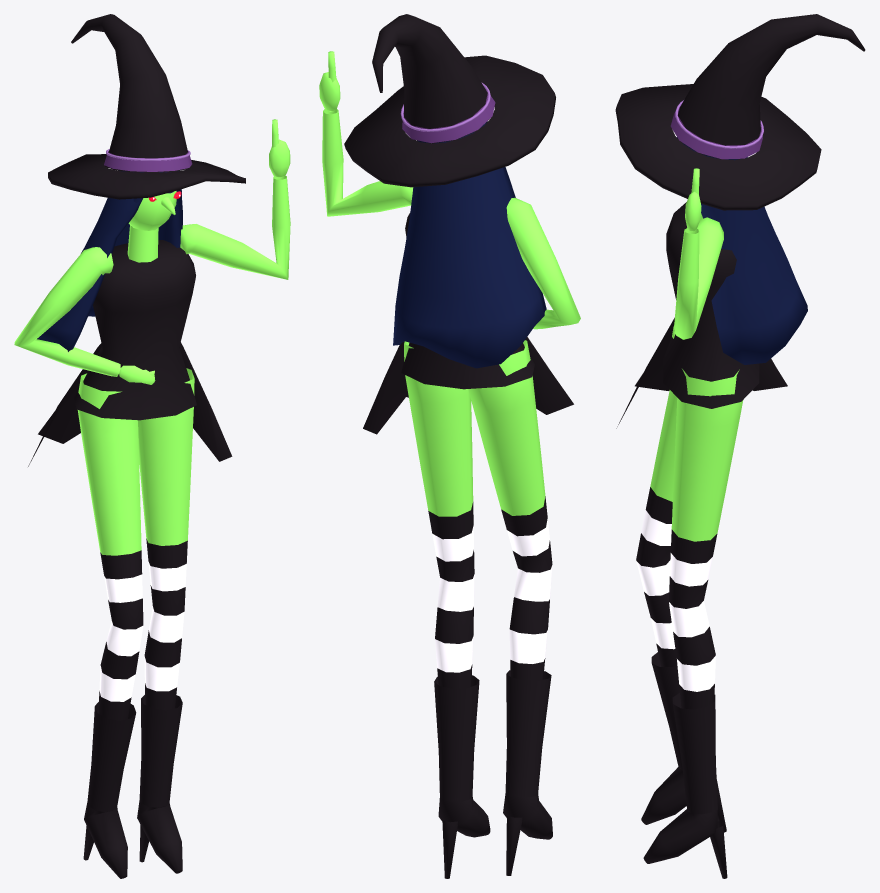
File: witch_warn.glb
The picture shows the model from 3 angles, left to right: view 1: azimuth 30°, elevation 25°; view 2: azimuth 150°, elevation 25°; view 3: azimuth 270°, elevation 25°; orthographic projection. The views are drawn at different scales.
Visible parts, largest first — view 1: HWG_Witch_warn; view 2: HWG_Witch_warn; view 3: HWG_Witch_warn.
Boxes of the visible parts, x1=… form: HWG_Witch_warn: x1=14, y1=14, x2=290, y2=878; HWG_Witch_warn: x1=319, y1=14, x2=580, y2=878; HWG_Witch_warn: x1=615, y1=14, x2=865, y2=878.
Bounding box in the file's own units: 0.4511 × 1.37 × 0.3561.
